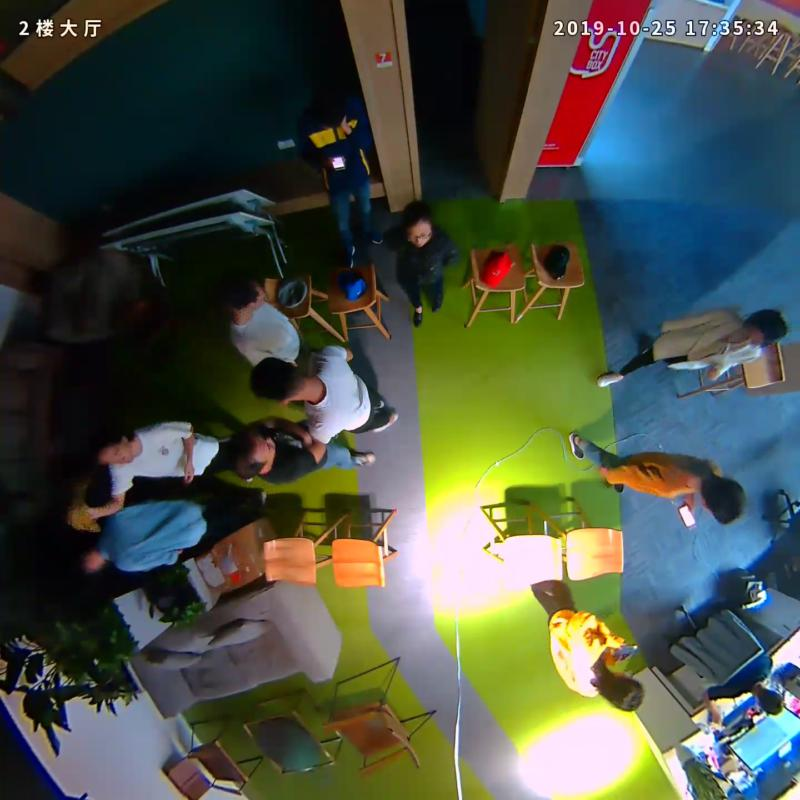head: (227, 426, 274, 478), (732, 309, 787, 353), (250, 357, 305, 400), (91, 420, 140, 466), (700, 478, 745, 522), (602, 669, 645, 712), (221, 273, 266, 311), (400, 199, 431, 248), (307, 78, 343, 118), (74, 545, 105, 577)
